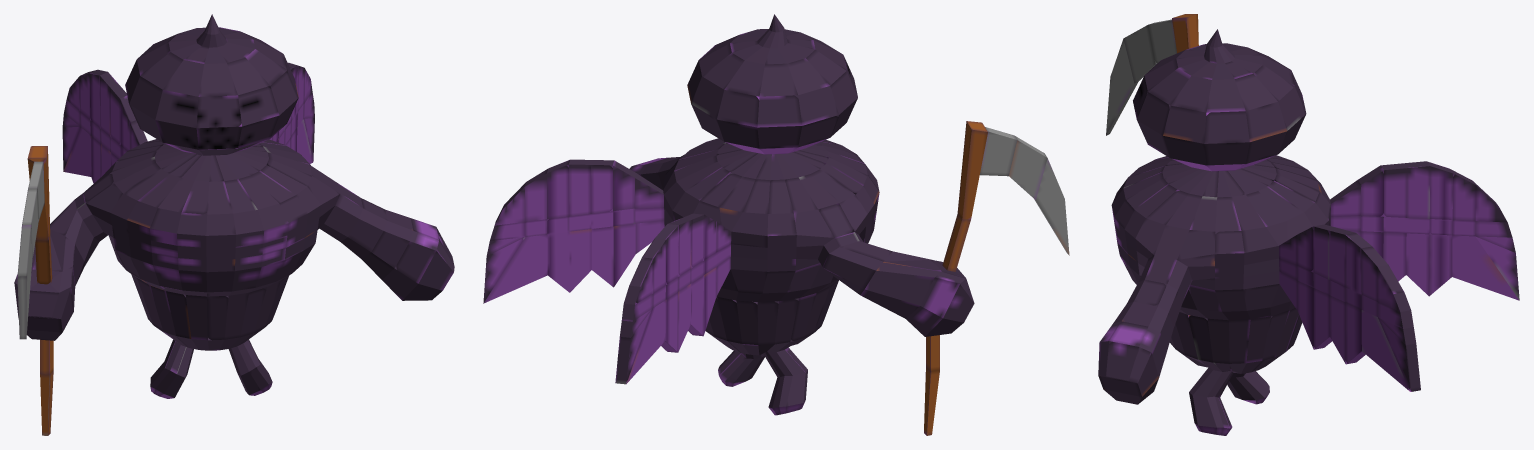
The model's file is joyous-reaper.obj.
3 renders of one model, left to right at view 1: azimuth 30°, elevation 25°; view 2: azimuth 150°, elevation 25°; view 3: azimuth 270°, elevation 25°, orthographic.
Visible parts, largest first — view 1: sphere; view 2: sphere; view 3: sphere.
Part boxes in pixels (x1,y1,x2,y2): sphere: (14, 14, 454, 435); sphere: (483, 14, 1069, 435); sphere: (1098, 14, 1519, 435).
Size of the model in its own units: 0.8997 by 0.75 by 0.7409.
1 material, 1 textured.
